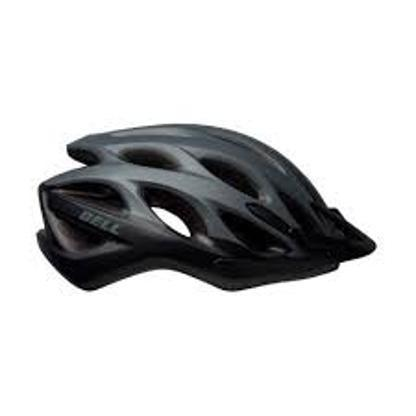not trash: (39, 125, 379, 291)
